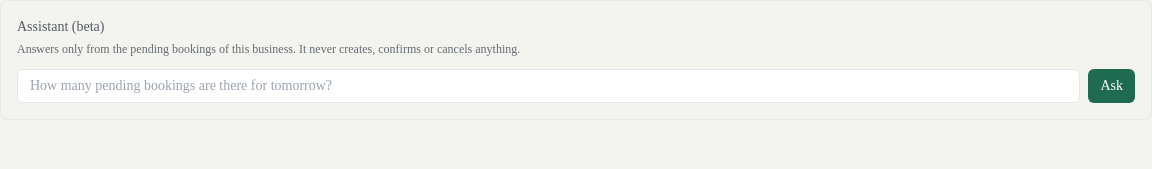
Test case: AiAssistBox › shows the API message for any other 503: "AI assist is temporarily unavailable."
This screenshot has width=1152, height=169.
In the field named "Question for the assistant": (549, 86) [17,69,1080,103], type "How many are pending tomorrow?"
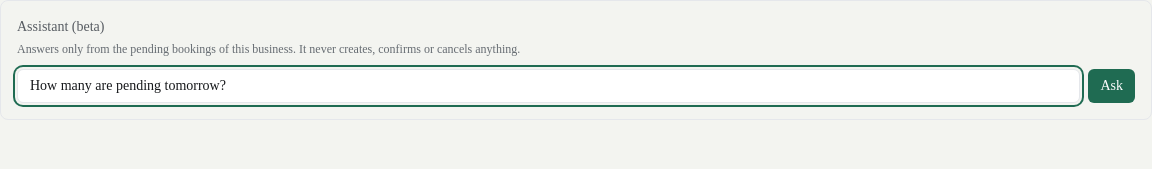
Click the button "Ask": (1112, 86) [1088,69,1135,103]
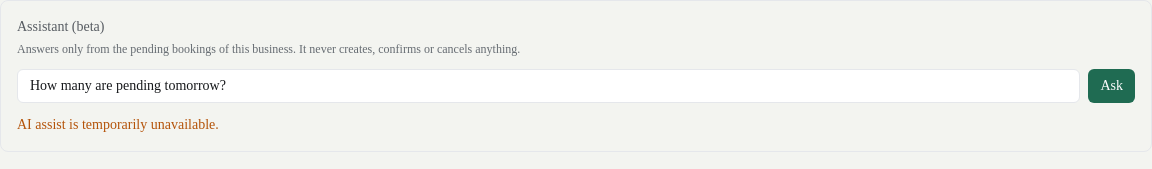
expect the message does not show "not configured": met, box [17,117,219,132]
expect the message reads "AI assist is temporarily unavailable.": met, box [17,117,219,132]
